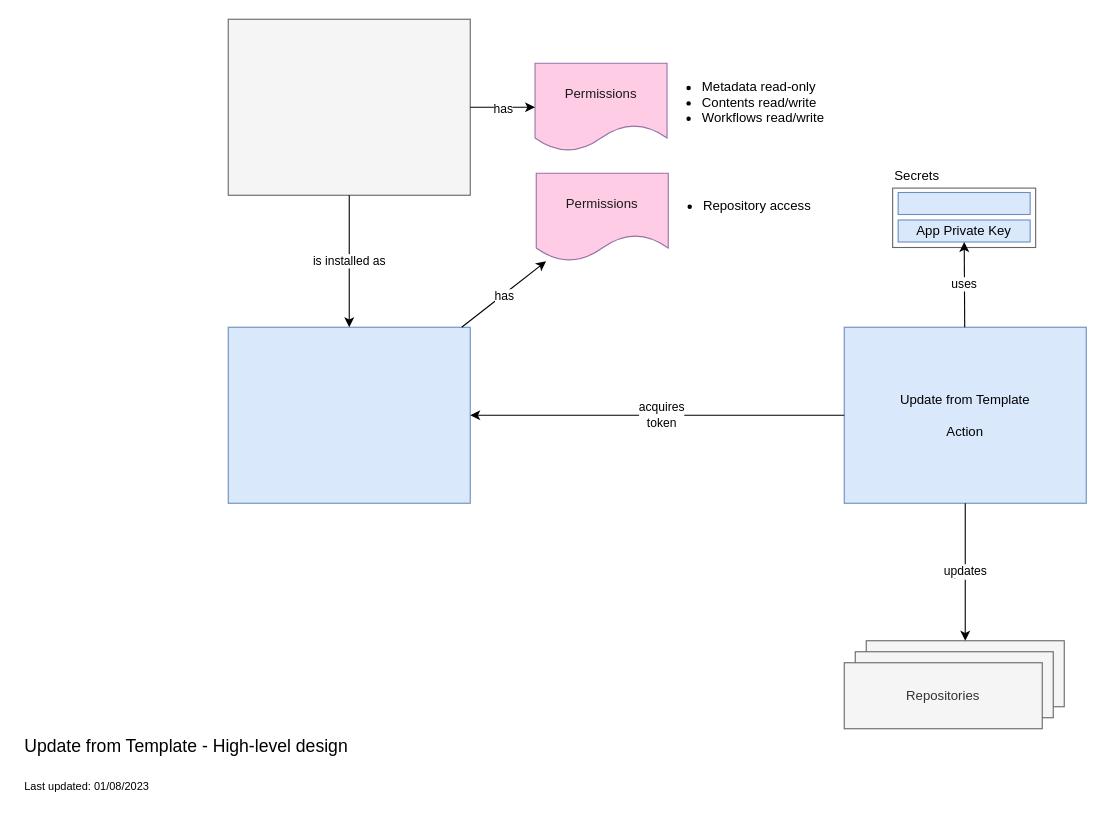
Image size: 1106x840. Some labels were removed from this diagram. The shapes that lost their labels are listed below. From the top down, each one's centre as x and y in pixels, then its label:
At (348,106): "Update from Template Registred App".
At (963,203): "App ID".
At (348,414): "Update from Template App installation at the org level".
